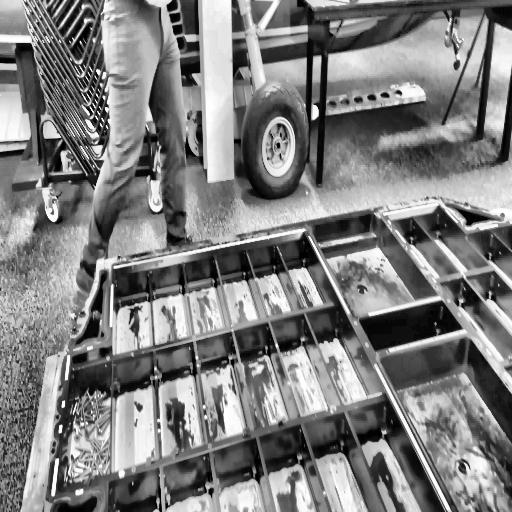b_casing: (19, 190, 512, 511)
